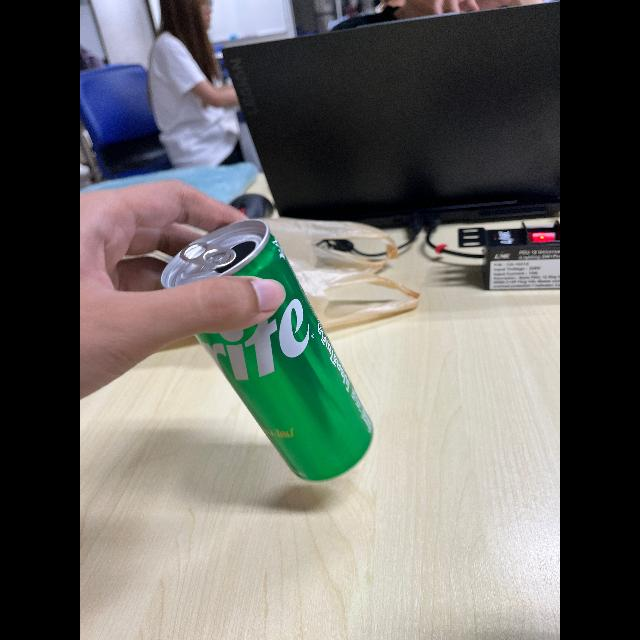can: (136, 220, 398, 490)
